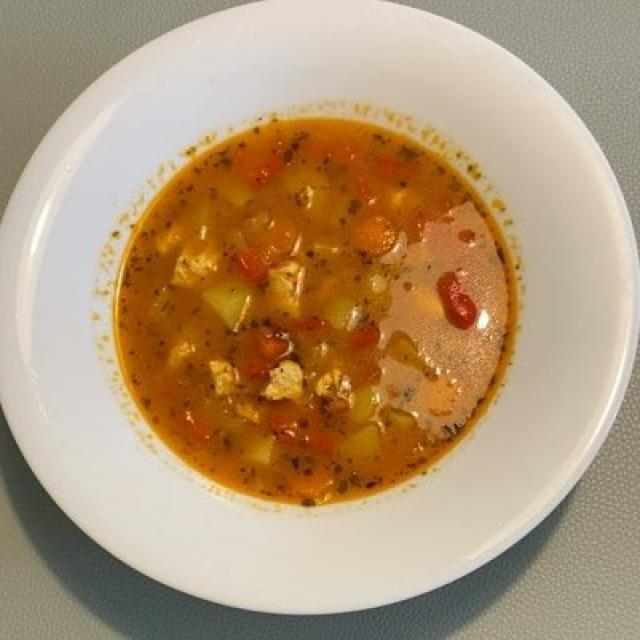soup: (120, 122, 492, 505)
tofu: (210, 264, 345, 398)
